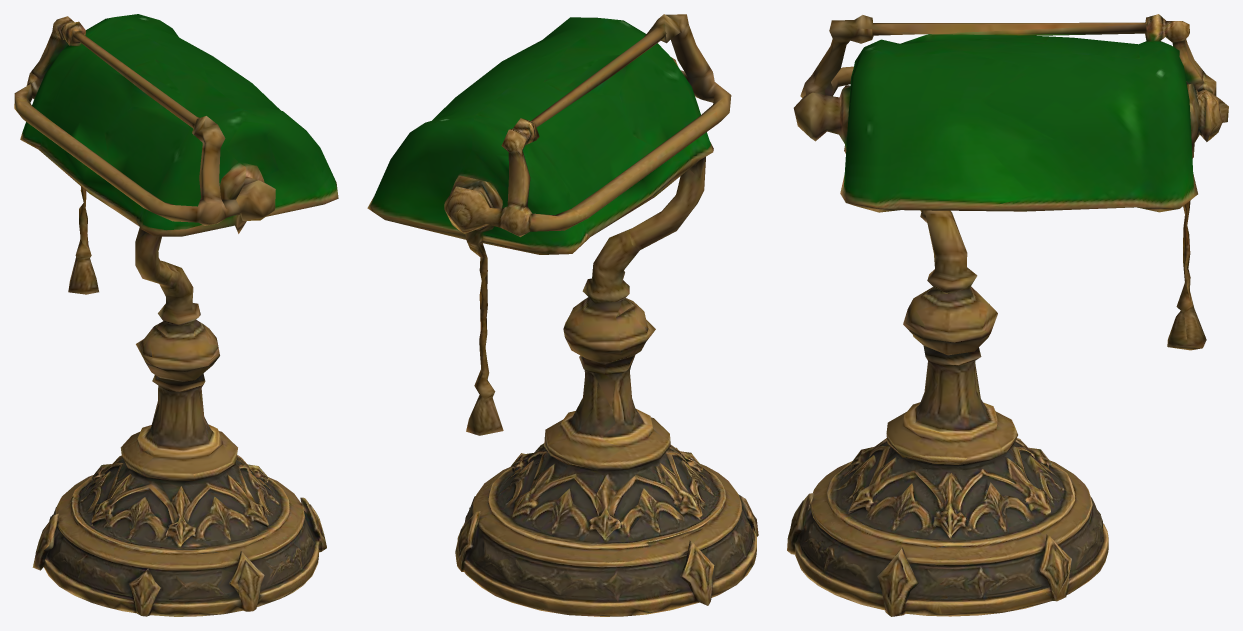
File: lamp.glb
3 renders of one model, left to right at view 1: azimuth 30°, elevation 25°; view 2: azimuth 150°, elevation 25°; view 3: azimuth 270°, elevation 25°, orthographic. The views are drawn at different scales.
Visible parts, largest first — view 1: tripo_node_9247394f-a7e1-4dfd-bc88-4c330646c6fc; view 2: tripo_node_9247394f-a7e1-4dfd-bc88-4c330646c6fc; view 3: tripo_node_9247394f-a7e1-4dfd-bc88-4c330646c6fc.
Part boxes in pixels (x1=…): tripo_node_9247394f-a7e1-4dfd-bc88-4c330646c6fc: x1=14, y1=14, x2=338, y2=616; tripo_node_9247394f-a7e1-4dfd-bc88-4c330646c6fc: x1=367, y1=14, x2=758, y2=616; tripo_node_9247394f-a7e1-4dfd-bc88-4c330646c6fc: x1=787, y1=14, x2=1228, y2=616.
Size of the model in its own units: 0.5303 by 0.9813 by 0.7422.
1 material, 1 textured.
